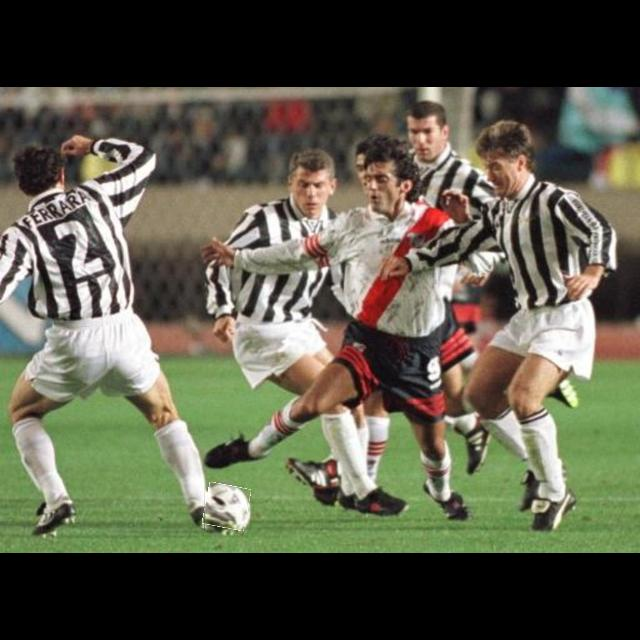Football: (204, 484, 250, 530)
